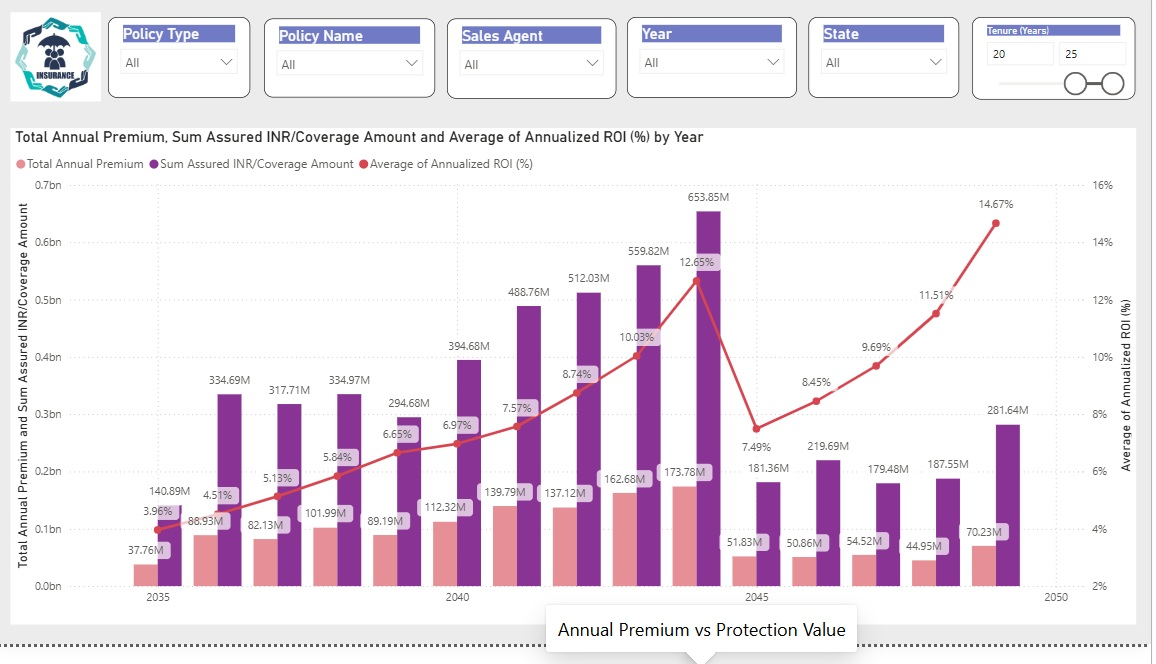

This screenshot's page, from the dashboard's own definition file:
{"tool":"powerbi","page":{"name":"Annual Premium vs Protection Value","canvas":[1280,720],"ordinal":5},"visuals":[{"type":"image","box":[17.7,16.1,100,108.1],"z":0},{"type":"slicer","fields":{"Values":["DM Policy_Type.Policy Type"]},"box":[126.3,25.9,157.1,89.1],"z":1000},{"type":"slicer","fields":{"Values":["DM Policy_Protection_Plan.Policy Name"]},"box":[297.9,27.5,189.4,87.4],"z":2000},{"type":"slicer","fields":{"Values":["DM Insurance_Agent_Table.Sales Agent"]},"box":[500.3,27.5,187.1,88.7],"z":3000},{"type":"slicer","fields":{"Values":["FCT Insurance_Policy_Table.Start Date.Variation.Date Hierarchy.Year"]},"box":[701.1,25.9,187.8,89.1],"z":4000},{"type":"slicer","fields":{"Values":["DM Customer_Detail_Table.State"]},"box":[901.9,25.9,166.8,89.1],"z":5000},{"type":"lineClusteredColumnComboChart","fields":{"Y2":["Avg(FCT Insurance_Policy_Table.Annualized ROI (%))"],"Y":["Sum(FCT Insurance_Policy_Table.Total Annual Premium)","Sum(FCT Insurance_Policy_Table.Sum Assured INR/Coverage Amount)"],"Category":["FCT Insurance_Policy_Table.Tenure Date.Variation.Date Hierarchy.Year","FCT Insurance_Policy_Table.Tenure Date.Variation.Date Hierarchy.Quarter","FCT Insurance_Policy_Table.Tenure Date.Variation.Date Hierarchy.Month","FCT Insurance_Policy_Table.Tenure Date.Variation.Date Hierarchy.Day"]},"box":[17.9,149.6,1245.3,549.5],"z":6000},{"type":"slicer","fields":{"Values":["FCT Insurance_Policy_Table.Tenure (Years)"]},"box":[1082.8,26,180.5,91],"z":7000}]}

Visuals, with their boxes in screenshot pixels (x1, y1, x2, y2), scaled from the page's 1280x720 canvas onto the 1156x664 screenshot:
image: <bbox>16, 15, 106, 115</bbox>
slicer - DM Policy_Type.Policy Type: <bbox>114, 24, 256, 106</bbox>
slicer - DM Policy_Protection_Plan.Policy Name: <bbox>269, 25, 440, 106</bbox>
slicer - DM Insurance_Agent_Table.Sales Agent: <bbox>452, 25, 621, 107</bbox>
slicer - FCT Insurance_Policy_Table.Start Date.Variation.Date Hierarchy.Year: <bbox>633, 24, 803, 106</bbox>
slicer - DM Customer_Detail_Table.State: <bbox>815, 24, 965, 106</bbox>
lineClusteredColumnComboChart - Avg(FCT Insurance_Policy_Table.Annualized ROI (%)) x Sum(FCT Insurance_Policy_Table.Total Annual Premium): <bbox>16, 138, 1141, 645</bbox>
slicer - FCT Insurance_Policy_Table.Tenure (Years): <bbox>978, 24, 1141, 108</bbox>
